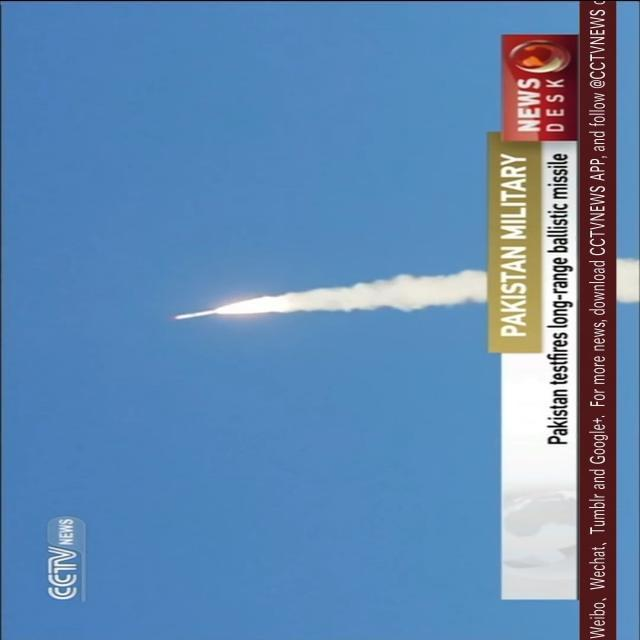Missile: (162, 305, 239, 323)
